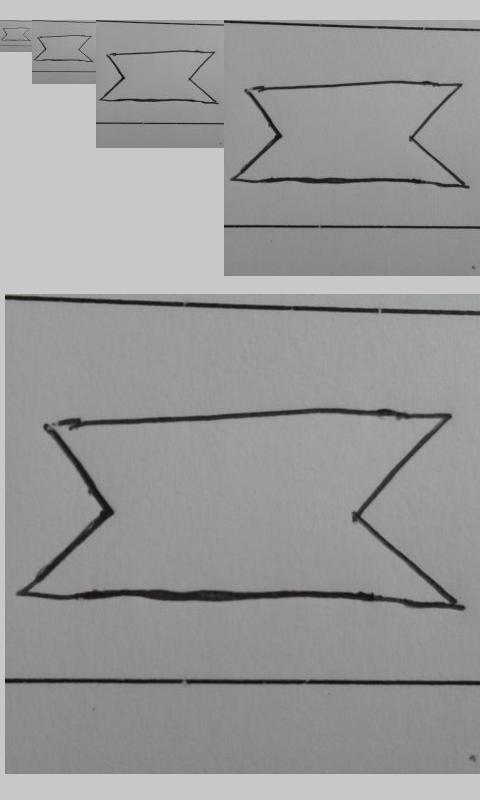edit_text: (19, 405, 467, 616), (231, 78, 470, 190), (99, 49, 218, 105), (34, 34, 93, 62), (1, 27, 31, 42)
